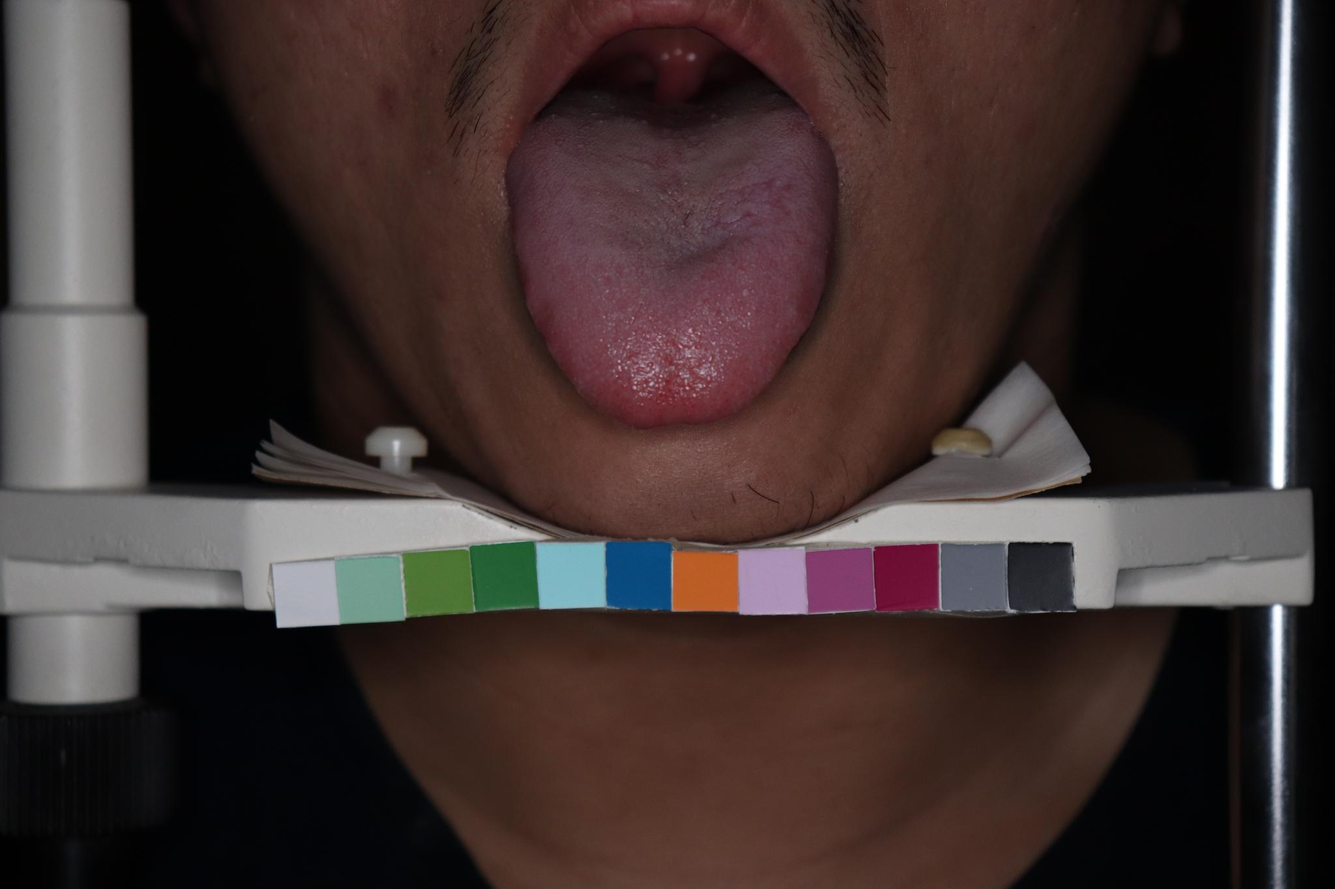baitaishe: (505, 96, 836, 429)
